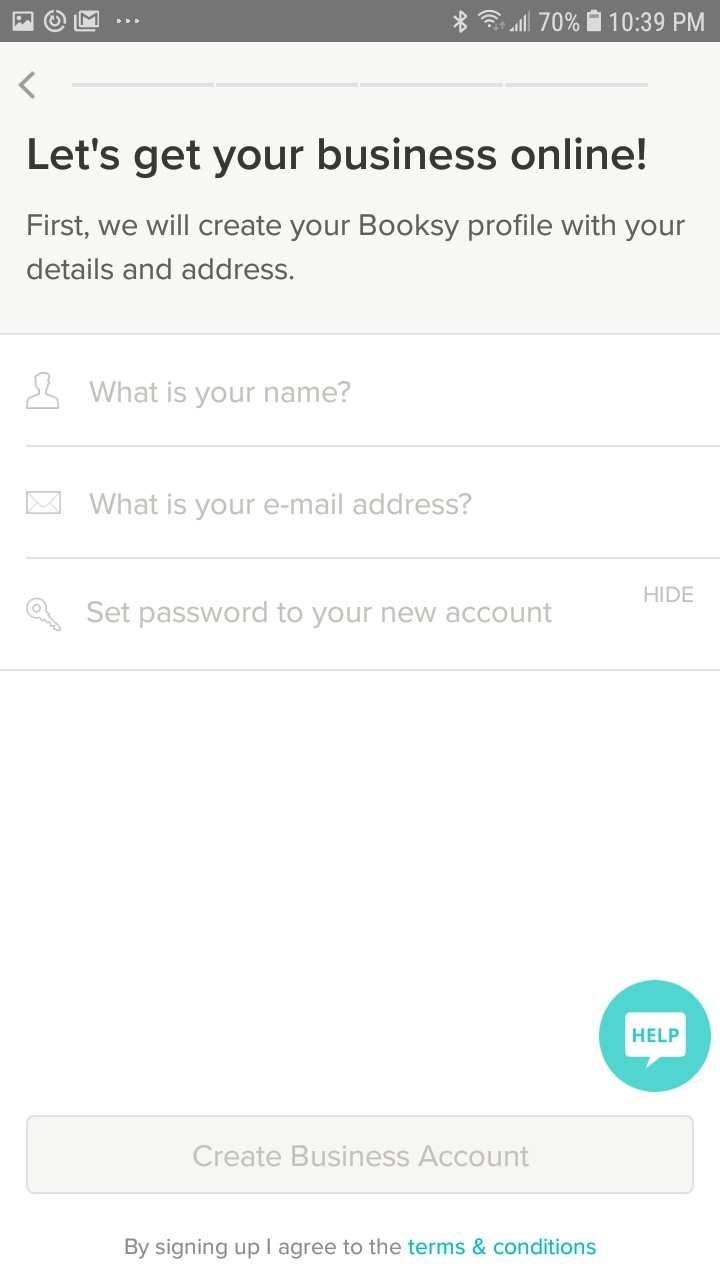Icon: (599, 980, 712, 1092), (26, 372, 60, 410), (26, 491, 62, 515), (19, 72, 37, 100)
Image: (26, 597, 62, 632)
Text: (27, 214, 686, 281), (29, 137, 646, 180), (87, 601, 553, 629), (125, 1237, 597, 1260), (89, 493, 472, 521), (89, 381, 352, 409), (644, 586, 694, 603)
TextButton: (26, 1115, 694, 1195)
UpperTaskBar: (1, 1, 720, 43)
